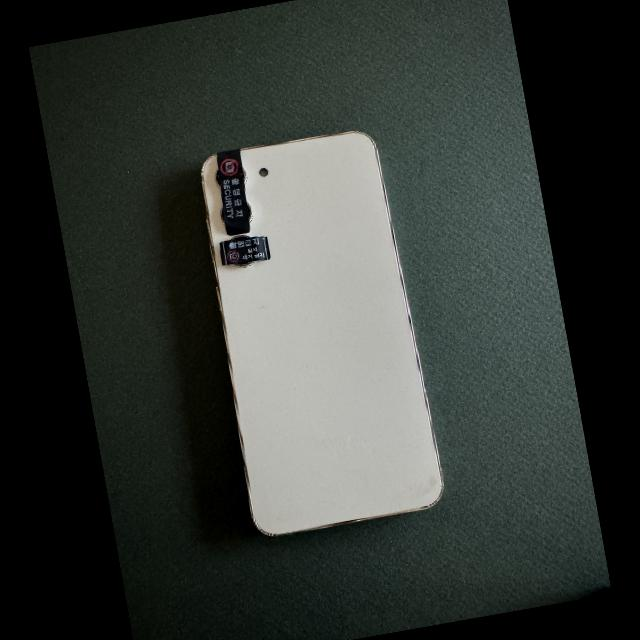lens: (231, 235, 250, 241), (247, 203, 252, 220), (216, 170, 220, 186)
phone: (199, 131, 444, 537)
sticker: (217, 148, 249, 235), (219, 236, 271, 266)
